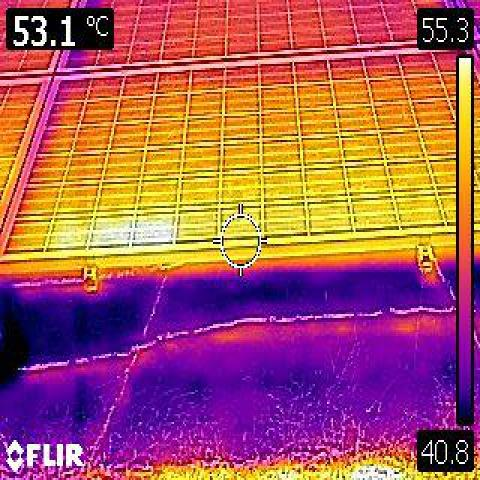fault: (95, 216, 132, 248), (137, 216, 173, 243)
